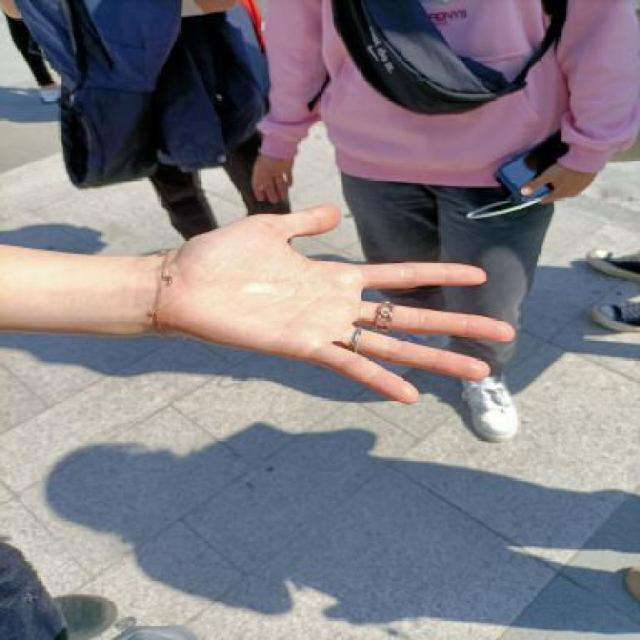bare_hand: (143, 189, 528, 423)
